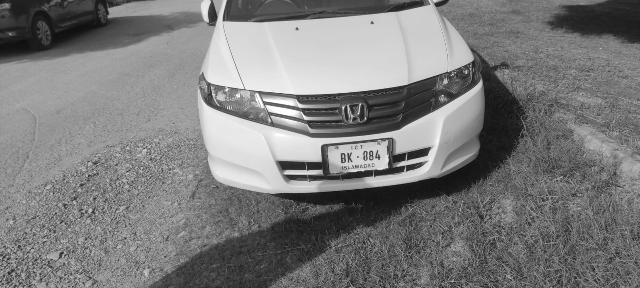Number: (339, 148, 382, 166)
